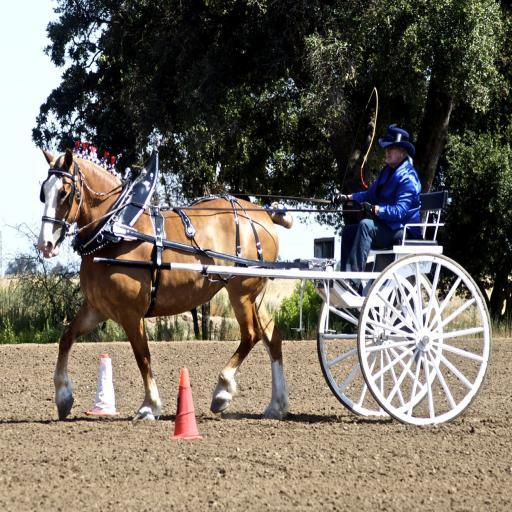Horse: (40, 150, 292, 423)
